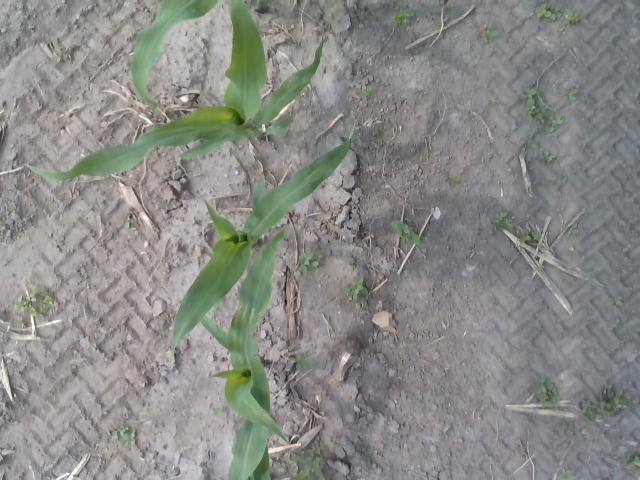Maize: (26, 2, 326, 181), (170, 122, 357, 364), (200, 228, 326, 480), (130, 0, 272, 108)
Weeds: (601, 384, 627, 415), (392, 219, 422, 245), (536, 377, 560, 407), (345, 276, 368, 298), (534, 3, 561, 21), (392, 8, 416, 26), (526, 102, 546, 122), (581, 398, 599, 420), (300, 253, 318, 274), (545, 112, 563, 133), (14, 298, 36, 313), (296, 354, 313, 372), (481, 25, 496, 43), (520, 88, 535, 105), (562, 88, 580, 102), (564, 9, 580, 24), (40, 296, 54, 312), (122, 432, 136, 448), (518, 224, 530, 242), (608, 296, 624, 308), (357, 84, 373, 96), (542, 150, 558, 162), (628, 455, 640, 470), (311, 440, 321, 454), (211, 406, 224, 416), (570, 223, 580, 235), (495, 212, 507, 222), (558, 420, 568, 432), (560, 468, 572, 478), (504, 216, 514, 228), (366, 448, 378, 457), (528, 141, 540, 149), (120, 426, 129, 436), (28, 293, 36, 302), (111, 431, 118, 440), (449, 177, 458, 184), (491, 96, 496, 104)
